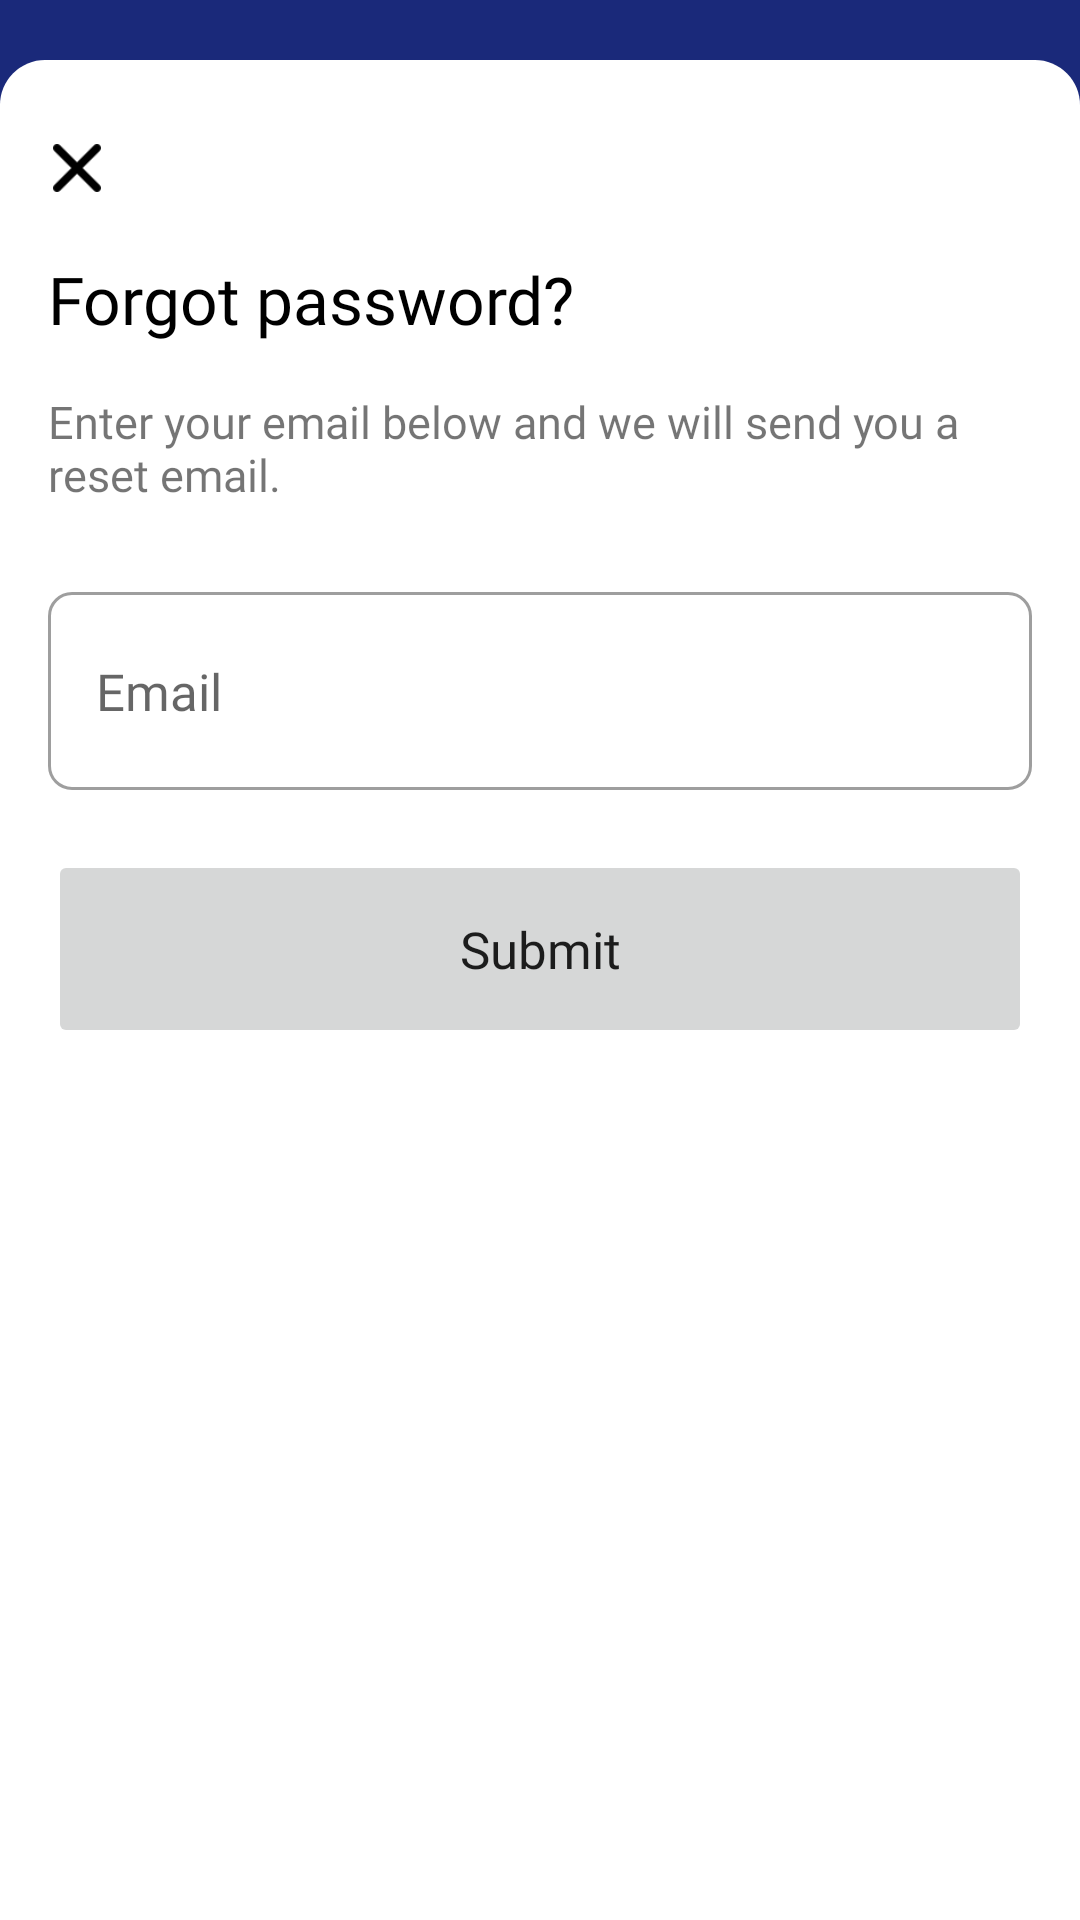

Where to tap for icons on this 1080 x 1920 app screen, as [x,y]:
exit: [77,168]
